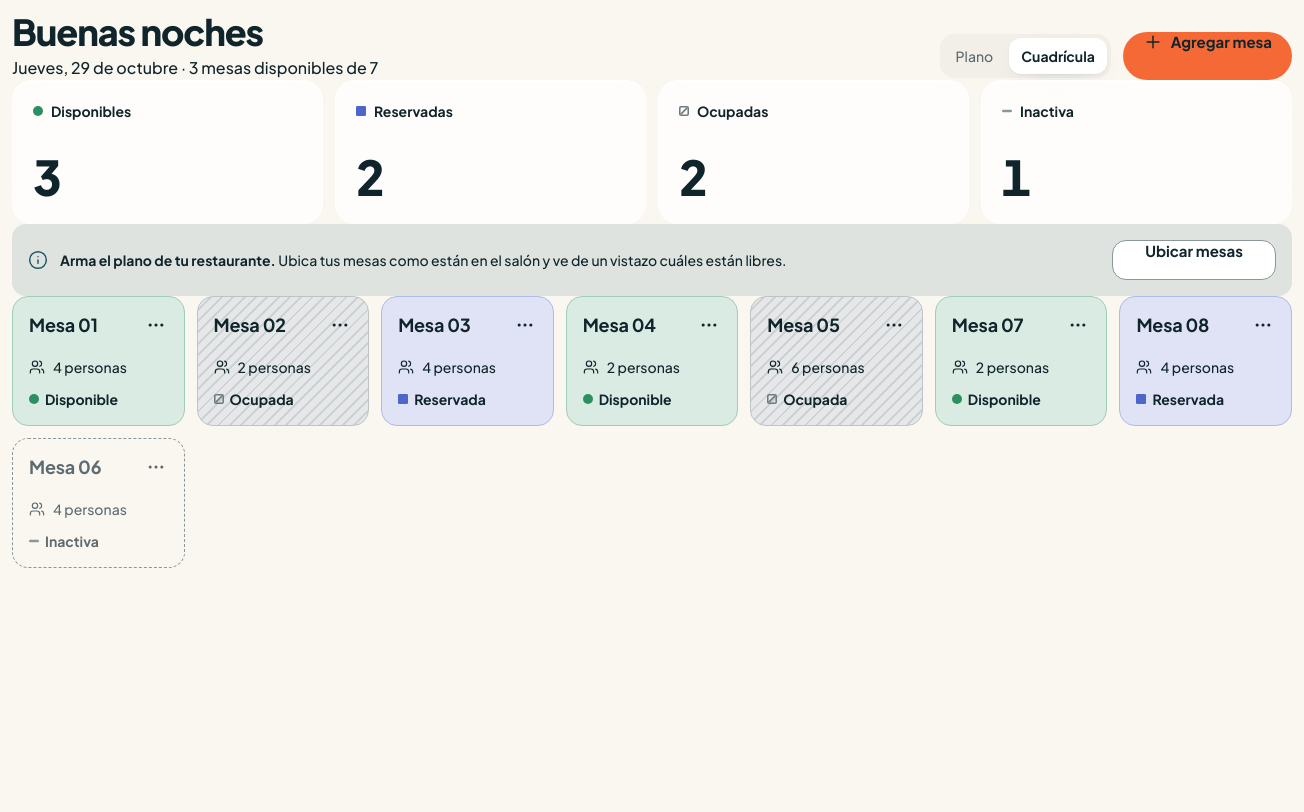
Test: TablesPage · menú ⋯ › active table: Editar · Desactivar (red, after a divider); inactive: Editar · Reactivar
expect the list named "Mesas" is shown: met, box [12,296,1292,568]
Click the button named "Más acciones de Mesa 04" at (709, 325), box [689,305,729,345]
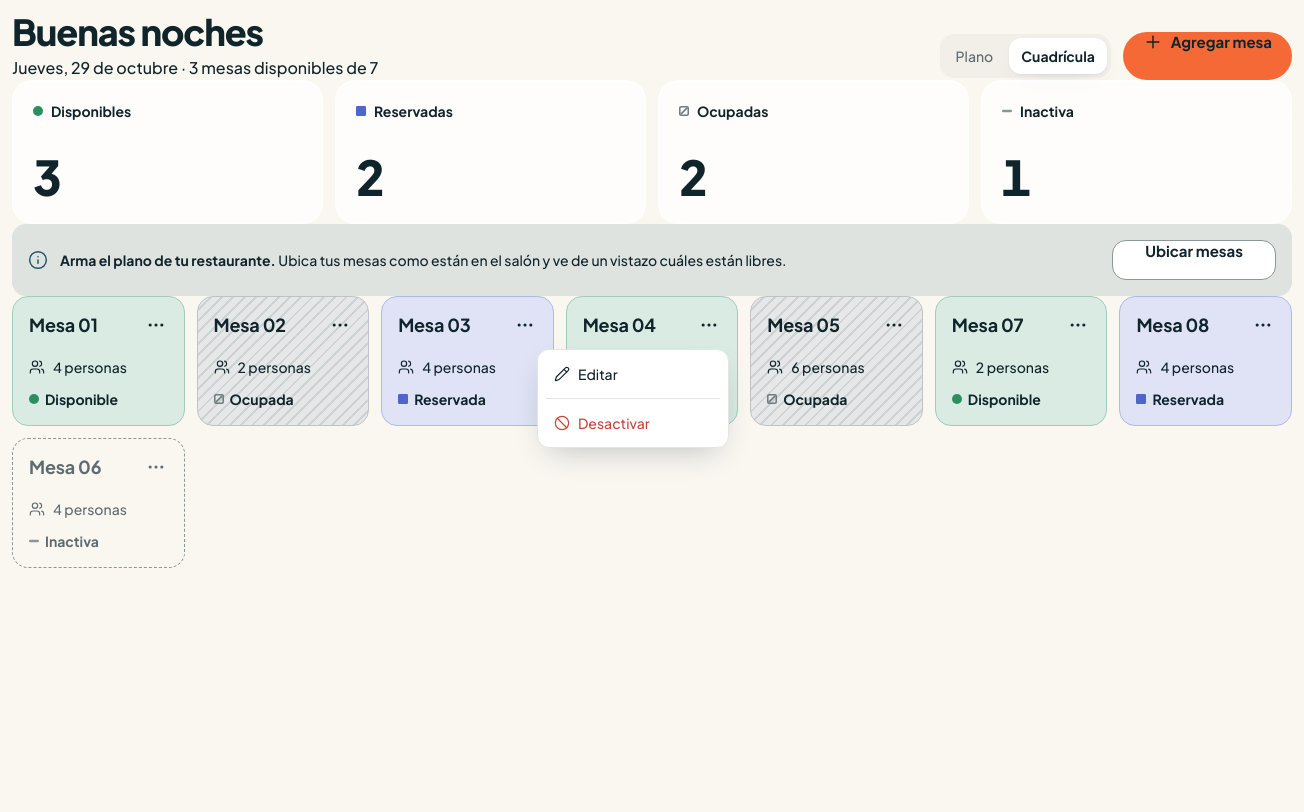
expect the menu items read "Editar", "Desactivar", in this order: met, box [554,365,618,383]; [554,414,650,432]
Press Escape
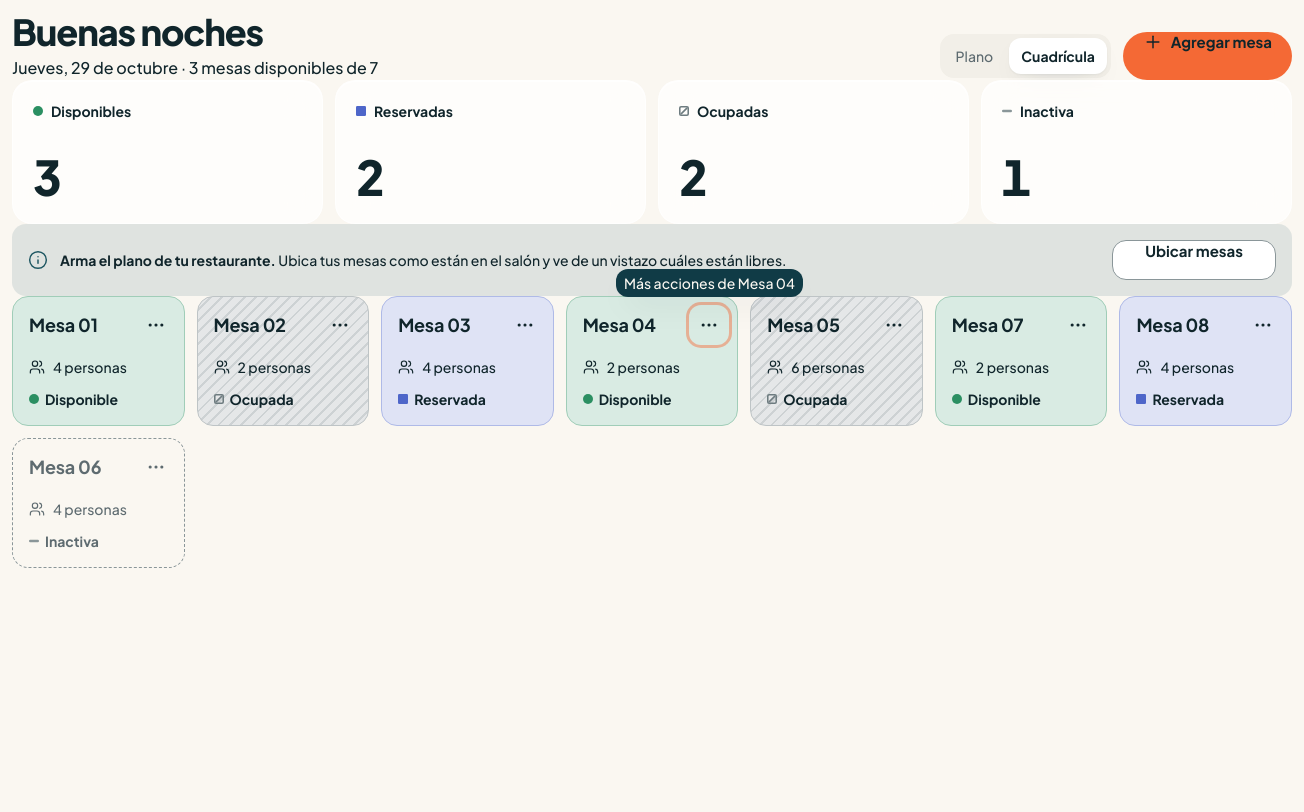
Click the button named "Más acciones de Mesa 06" at (156, 467), box [136,447,176,487]
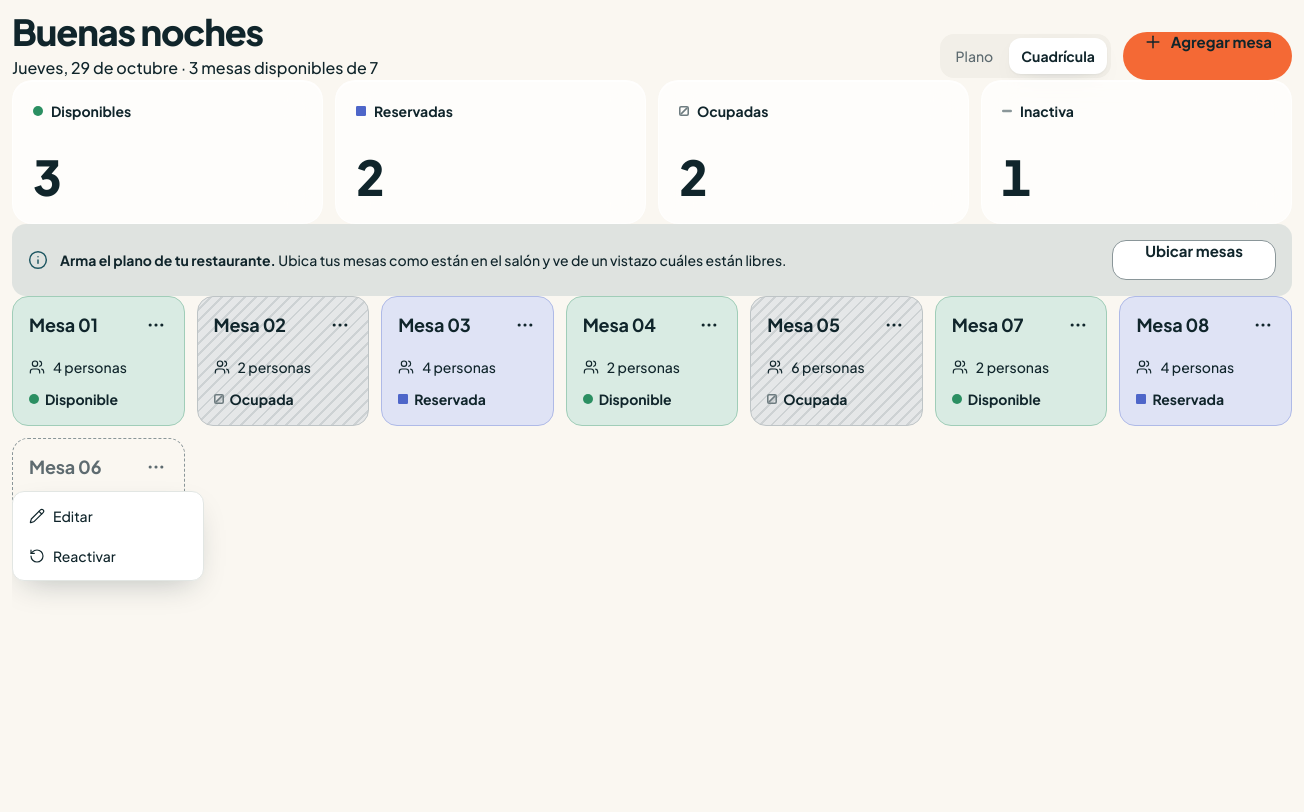
expect the menu items read "Editar", "Reactivar", in this order: met, box [29,507,93,525]; [29,547,116,565]
